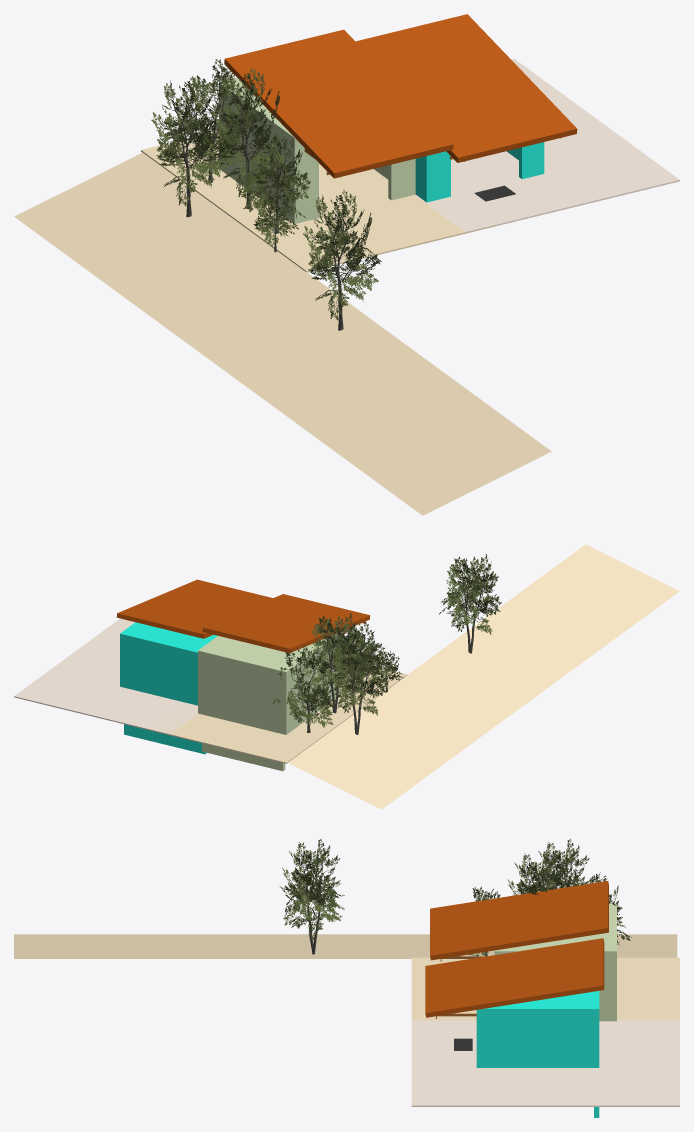
File: OutSide 1.fbx
3 renders of one model, top to bottom at view 1: azimuth 30°, elevation 25°; view 2: azimuth 150°, elevation 25°; view 3: azimuth 270°, elevation 25°, orthographic. The views are drawn at different scales.
Visible parts, largest first — view 1: Chao_3, Telhado_2, Telhado_1, Chao_1, Chao_2, Arvore_4, Arvore_4_1, Arvore_4_2, Parede_9, Arvore_1, Arvore_3, Parede_11 (+4 smaller); view 2: Chao_3, Chao_1, Chao_2, Parede_7, Telhado_2, Telhado_1, Parede_4, Arvore_4_1, Arvore_4, Arvore_3, Parede_9, Arvore_4_2 (+4 smaller); view 3: Chao_1, Chao_3, Telhado_1, Telhado_2, Parede_2, Chao_2, Arvore_4, Arvore_4_1, Arvore_4_2, Parede_8, Teto_2, Teto_1 (+1 smaller).
Part boxes in pixels (x1,y1,x2,y2): Chao_3: (14,152,551,515); Telhado_2: (224,29,453,178); Telhado_1: (355,14,577,162); Chao_1: (415,59,679,232); Chao_2: (141,131,495,272); Arvore_4: (303,190,381,330); Arvore_4_1: (151,76,228,217); Arvore_4_2: (211,68,283,208); Parede_9: (219,82,291,220); Arvore_1: (240,133,310,233); Arvore_3: (164,59,242,182); Parede_11: (291,135,318,223); Chao_3: (288,544,679,809); Chao_1: (14,618,198,735); Chao_2: (148,661,407,763); Parede_7: (202,656,285,771); Telhado_2: (202,594,370,653); Telhado_1: (116,579,272,638); Parede_4: (124,639,206,754); Arvore_4_1: (327,635,387,734); Arvore_4: (439,554,501,653); Arvore_3: (272,637,336,732); Parede_9: (282,634,338,734); Arvore_4_2: (311,613,365,713); Chao_1: (411,1020,679,1106); Chao_3: (14,934,677,958); Telhado_1: (425,938,604,1017); Telhado_2: (430,881,608,960); Parede_2: (481,1006,599,1067); Chao_2: (411,957,679,1020); Arvore_4: (279,839,344,954); Arvore_4_1: (532,839,589,891); Arvore_4_2: (507,850,565,895); Parede_8: (499,949,616,1021); Teto_2: (505,905,616,948); Teto_1: (499,991,599,1006).
Size of what is drawn, in the model's own units: 18307 by 7028 by 25913.
Materials: 9 (2 with a texture image).
